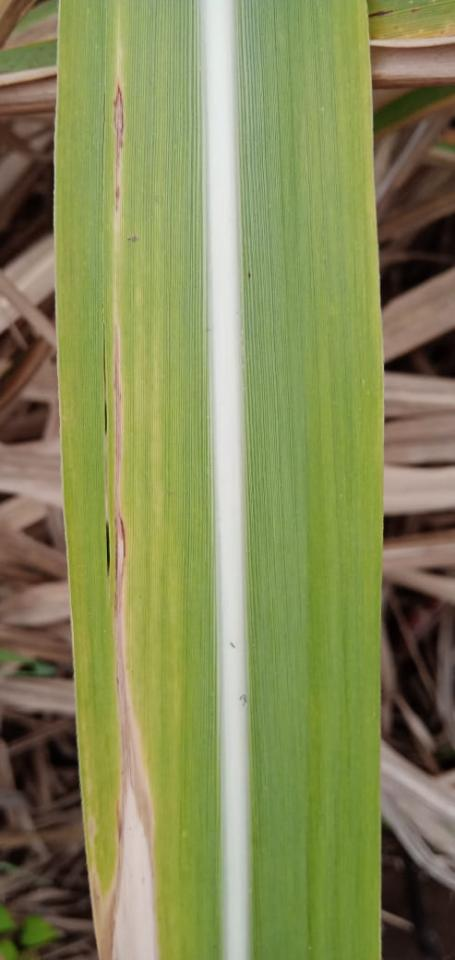Yellow: (88, 323, 161, 959), (113, 84, 126, 230)
